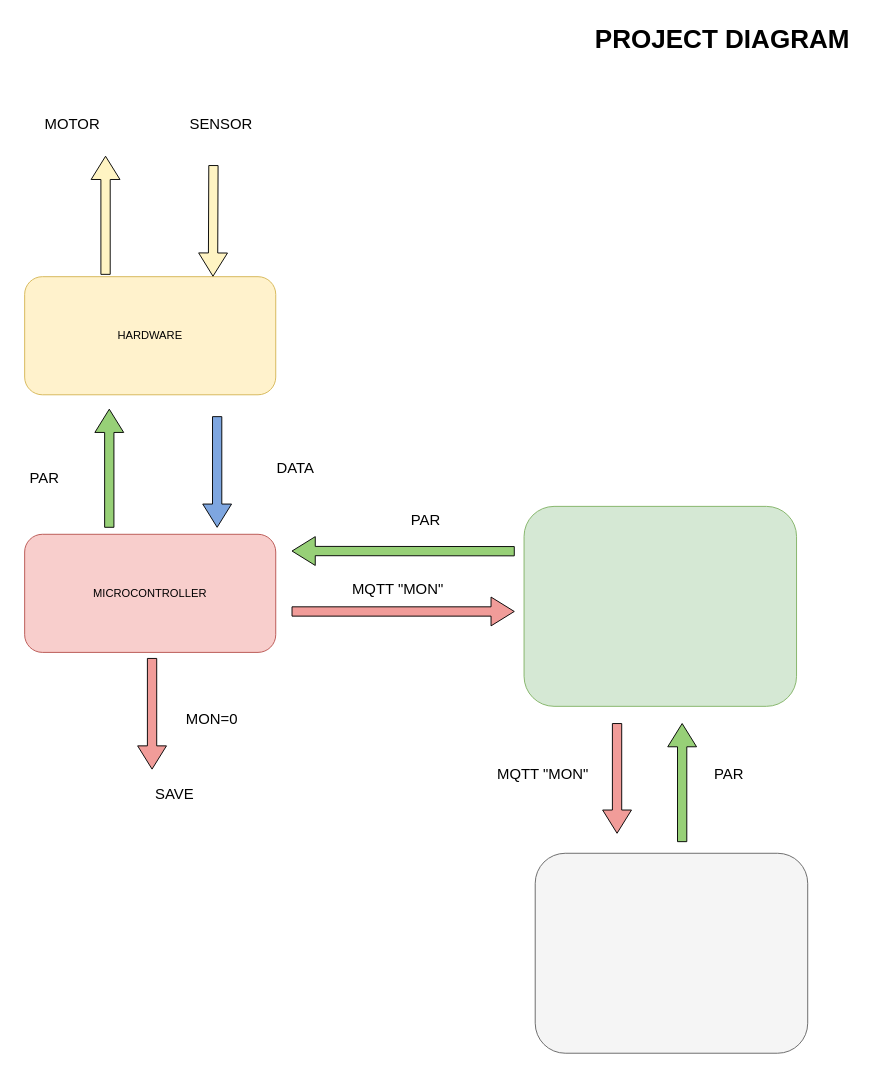
Some shapes in this 872 by 1070 pixel diagram are drawn without their labels. The box of each missing label's shape, as (x1, y1, x2, y2) in pixels:
BROKER: (523, 505, 797, 706)
UI: (534, 852, 808, 1053)
